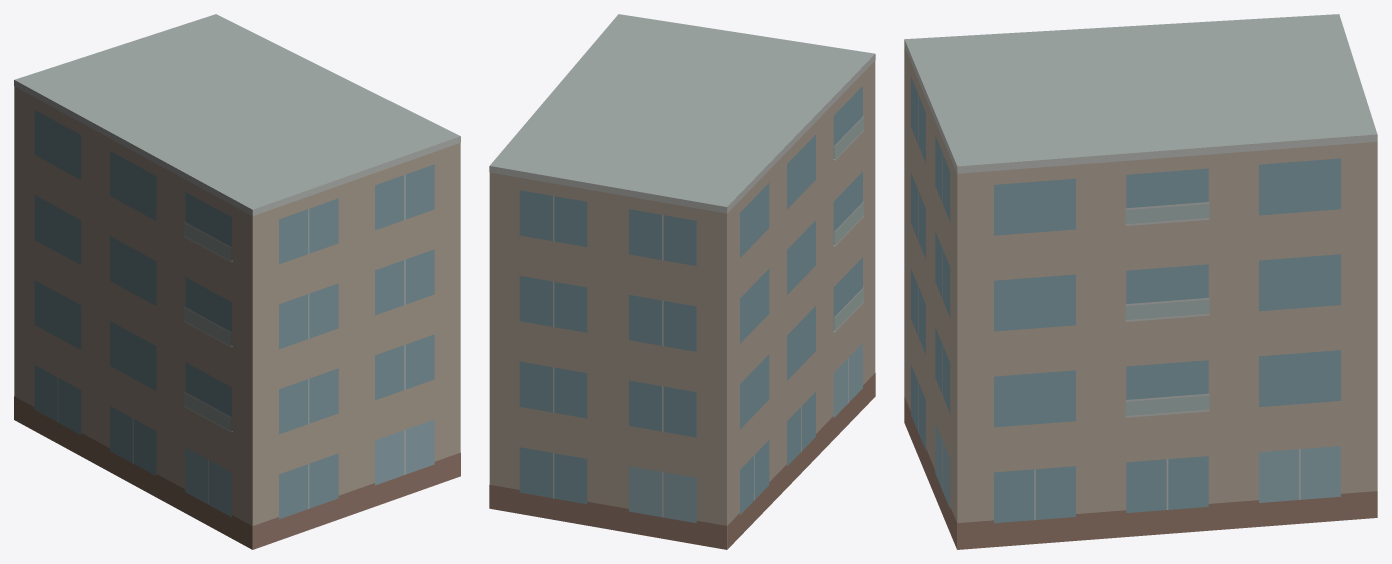
Rendered from survey-upis-32701805.glb.
3 views of the same model, side by side, from view 1: azimuth 30°, elevation 25°; view 2: azimuth 150°, elevation 25°; view 3: azimuth 270°, elevation 25° (orthographic). The views are drawn at different scales.
Parts seen in each view (by area): view 1: survey-upis-32701805.tmp; view 2: survey-upis-32701805.tmp; view 3: survey-upis-32701805.tmp.
Boxes of the visible parts, <box> form: survey-upis-32701805.tmp: <box>14,14,460,549</box>; survey-upis-32701805.tmp: <box>489,14,875,549</box>; survey-upis-32701805.tmp: <box>904,14,1377,549</box>.
Bounding box in the file's own units: 10.93 × 12.8 × 14.32.
